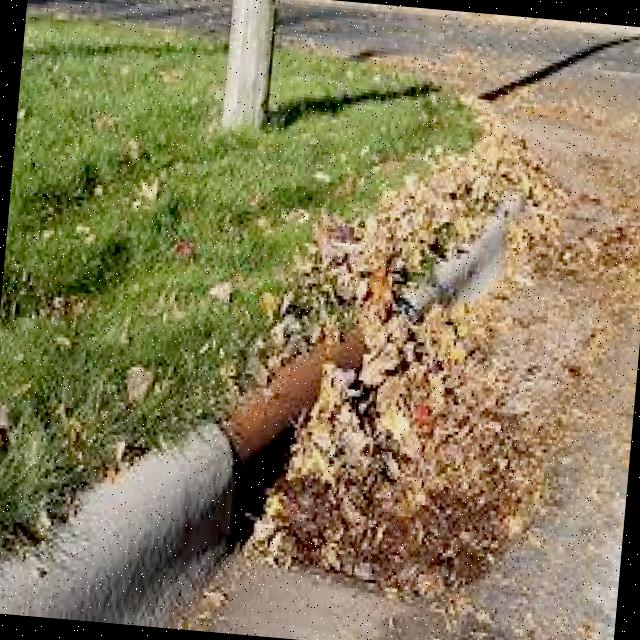curb: (1, 403, 371, 640), (385, 170, 525, 349), (264, 340, 392, 434)
